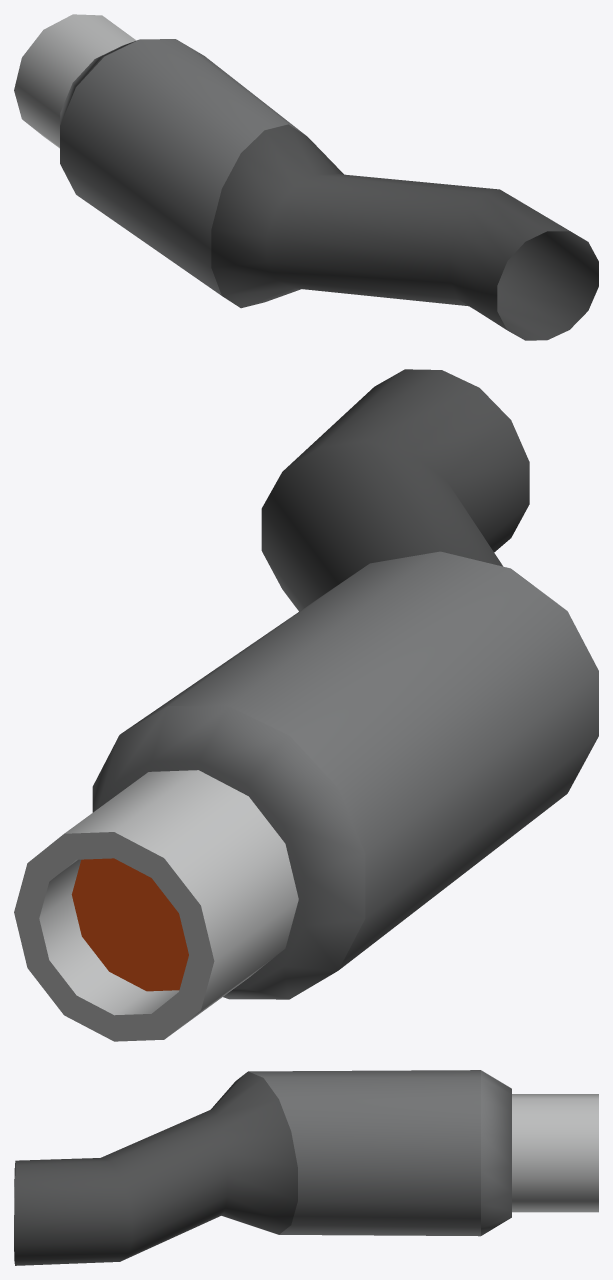
The model's file is Car_05_Pipe_Simple.fbx.
3 renders of one model, top to bottom at view 1: azimuth 30°, elevation 25°; view 2: azimuth 150°, elevation 25°; view 3: azimuth 270°, elevation 25°, orthographic. The views are drawn at different scales.
Parts seen in each view (by area): view 1: Car_05_Pipe_Simple; view 2: Car_05_Pipe_Simple; view 3: Car_05_Pipe_Simple.
Boxes of the visible parts, <box> form: Car_05_Pipe_Simple: <box>14,14,598,340</box>; Car_05_Pipe_Simple: <box>14,369,598,1041</box>; Car_05_Pipe_Simple: <box>14,1070,598,1265</box>.
Bounding box in the file's own units: 35.31 × 75.26 × 21.37.
